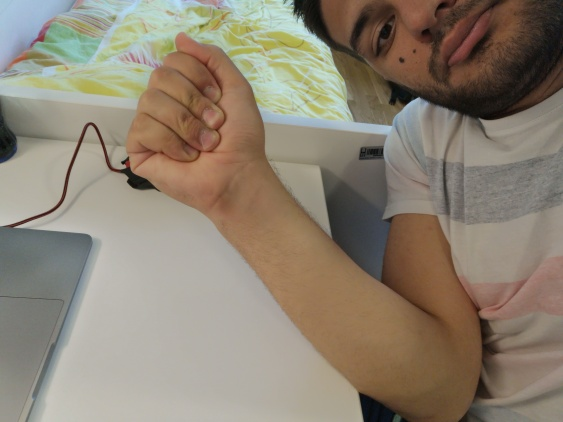A: (127, 32, 266, 213)
